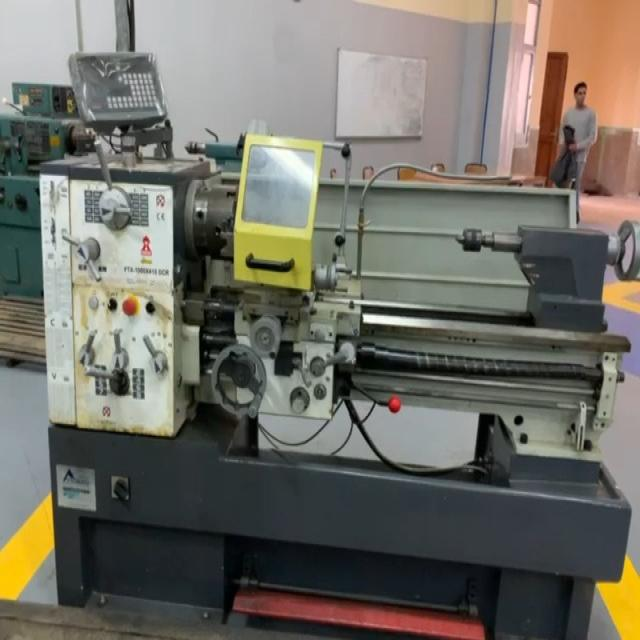tour parallele: (40, 133, 640, 638), (71, 53, 171, 152)
